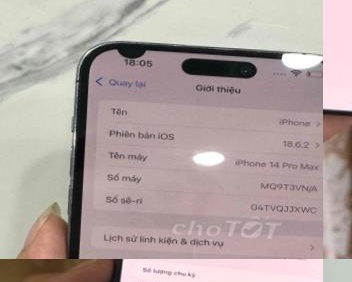screen_defect: (97, 28, 162, 70)
